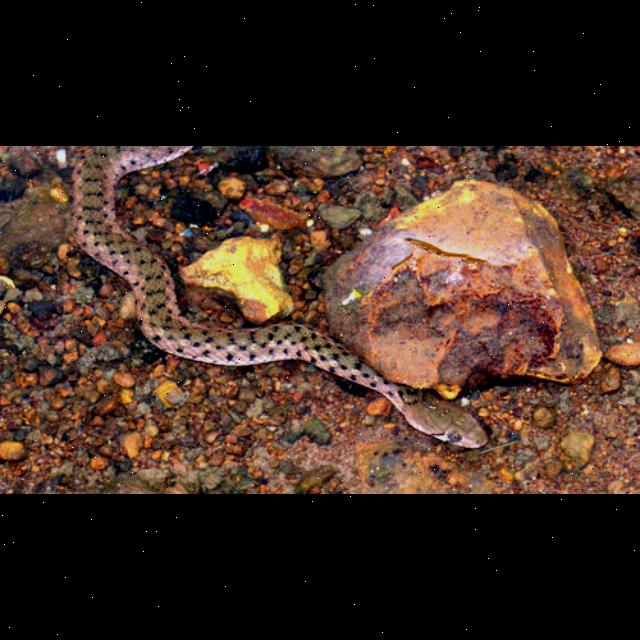snake: (70, 146, 490, 454)
